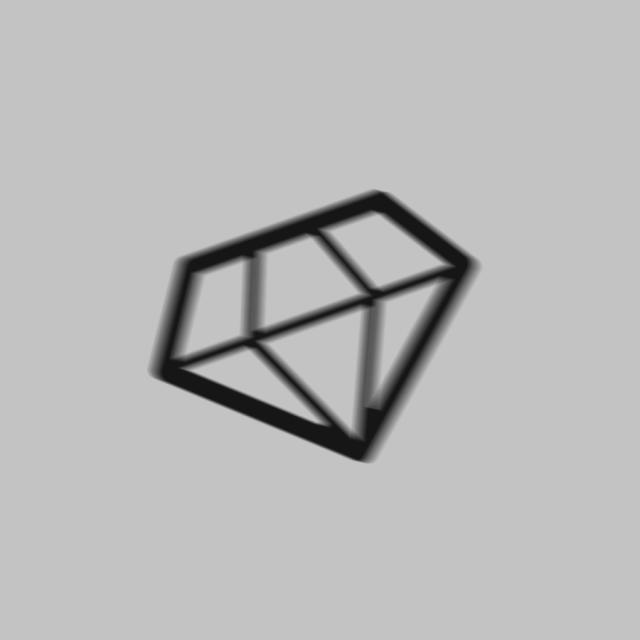diamond: (144, 188, 487, 471)
